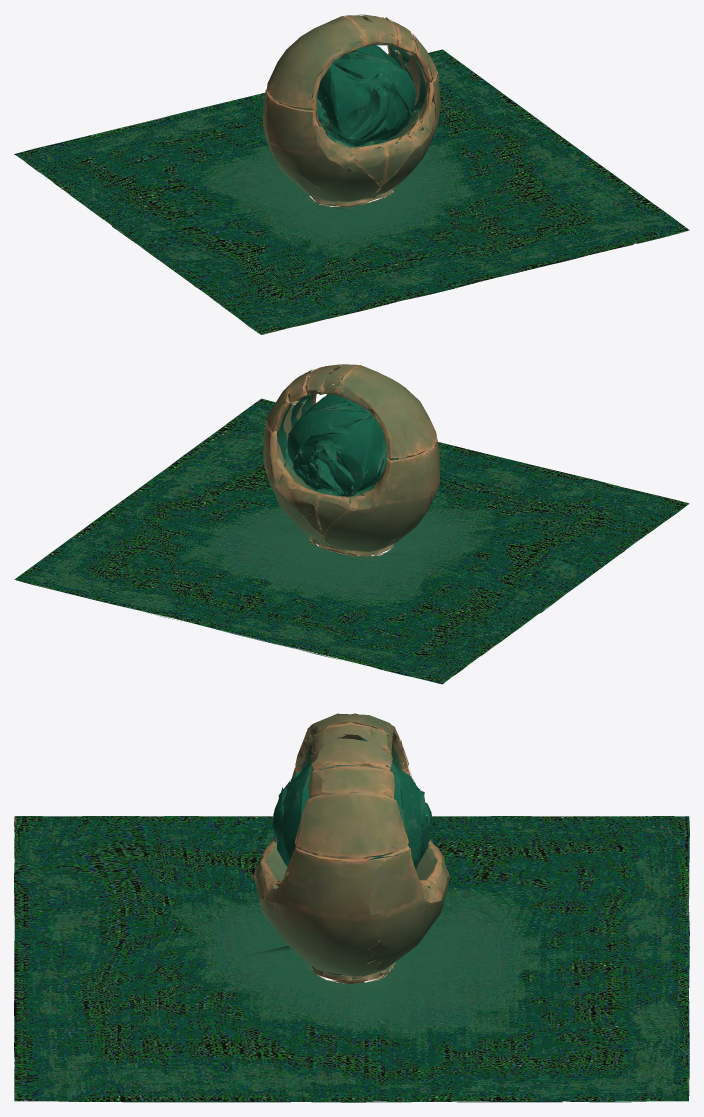
File: relic-tideglass-heart-lod0.glb
3 renders of one model, top to bottom at view 1: azimuth 30°, elevation 25°; view 2: azimuth 150°, elevation 25°; view 3: azimuth 270°, elevation 25°, orthographic. The views are drawn at different scales.
Visible parts, largest first — view 1: xenovoya_runtime_asset; view 2: xenovoya_runtime_asset; view 3: xenovoya_runtime_asset.
Boxes of the visible parts, x1,y1,x2,y2 form: xenovoya_runtime_asset: (14, 14, 689, 334); xenovoya_runtime_asset: (14, 364, 689, 684); xenovoya_runtime_asset: (14, 713, 689, 1102).
Size of the model in its own units: 1 by 0.3883 by 1.
1 material, 1 textured.
